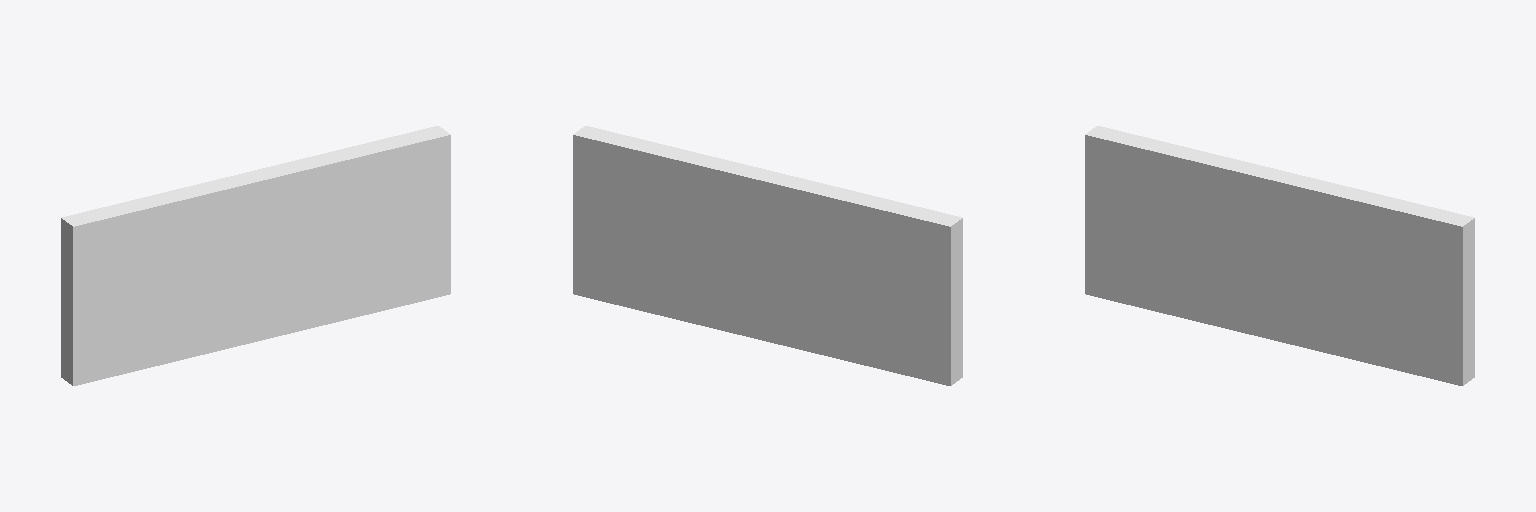
The model's file is setting.obj.
3 renders of one model, left to right at view 1: azimuth 30°, elevation 25°; view 2: azimuth 150°, elevation 25°; view 3: azimuth 330°, elevation 25°, orthographic.
Visible parts, largest first — view 1: object 1; view 2: object 1; view 3: object 1.
Boxes of the visible parts, <box> form: object 1: <box>61,126,450,385</box>; object 1: <box>573,126,962,385</box>; object 1: <box>1085,126,1474,385</box>.
Bounding box in the file's own units: 5.2 × 2.1 × 0.3.